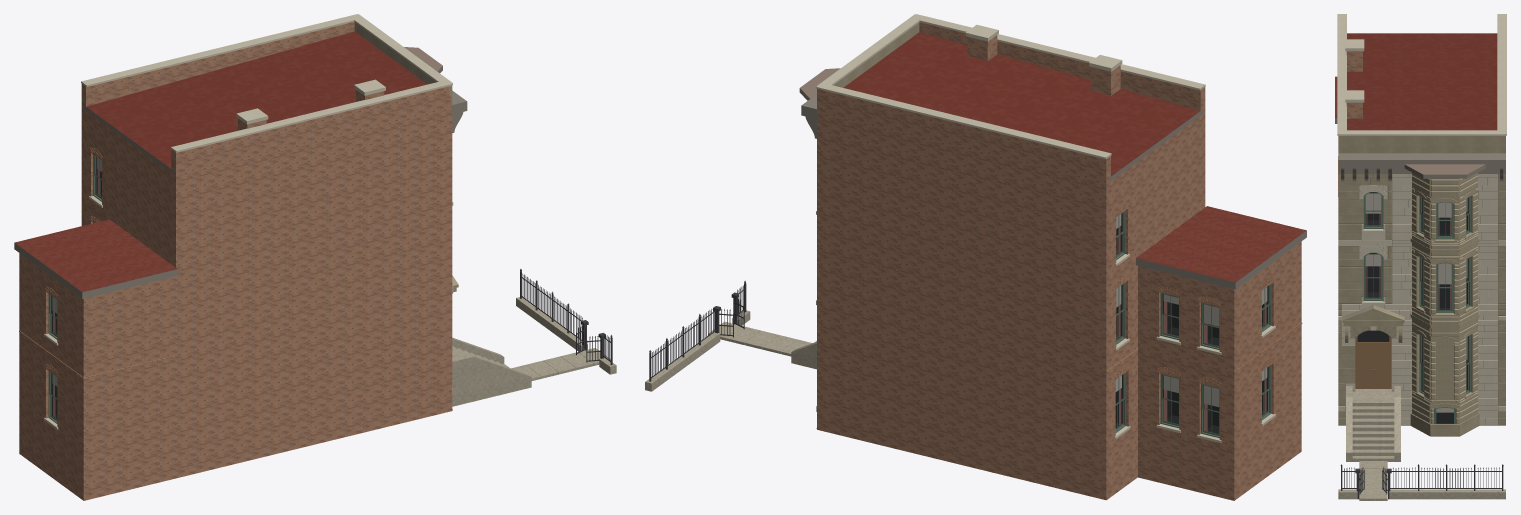
The model's file is otis_house_2033_prairie__as_mapped_1904.glb.
The picture shows the model from 3 angles, left to right: view 1: azimuth 30°, elevation 25°; view 2: azimuth 150°, elevation 25°; view 3: azimuth 270°, elevation 25°; orthographic projection. The views are drawn at different scales.
Parts seen in each view (by area): view 1: otis_house_2033_prairie__as_mapped_1904; view 2: otis_house_2033_prairie__as_mapped_1904; view 3: otis_house_2033_prairie__as_mapped_1904.
Part boxes in pixels (x1=…): otis_house_2033_prairie__as_mapped_1904: x1=14, y1=14, x2=616, y2=500; otis_house_2033_prairie__as_mapped_1904: x1=645, y1=14, x2=1306, y2=500; otis_house_2033_prairie__as_mapped_1904: x1=1335, y1=14, x2=1506, y2=500.
Size of the model in its own units: 25.32 by 15.14 by 7.81.
24 materials, 13 textured.
